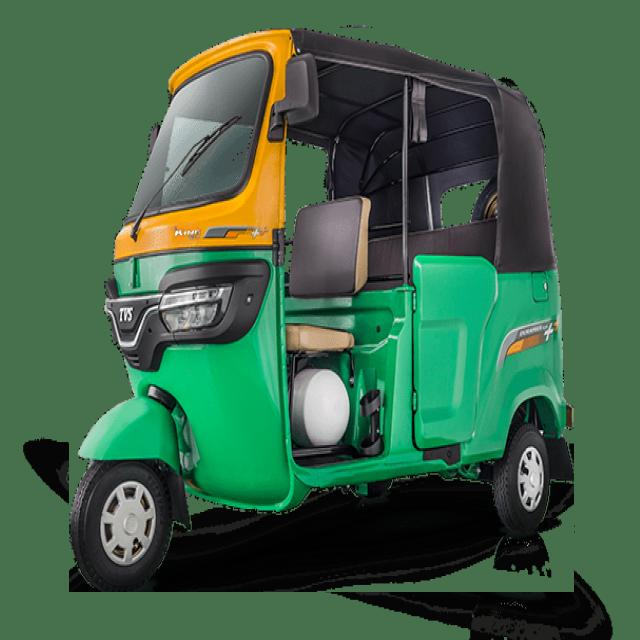autorickshaw: (69, 28, 574, 592)
